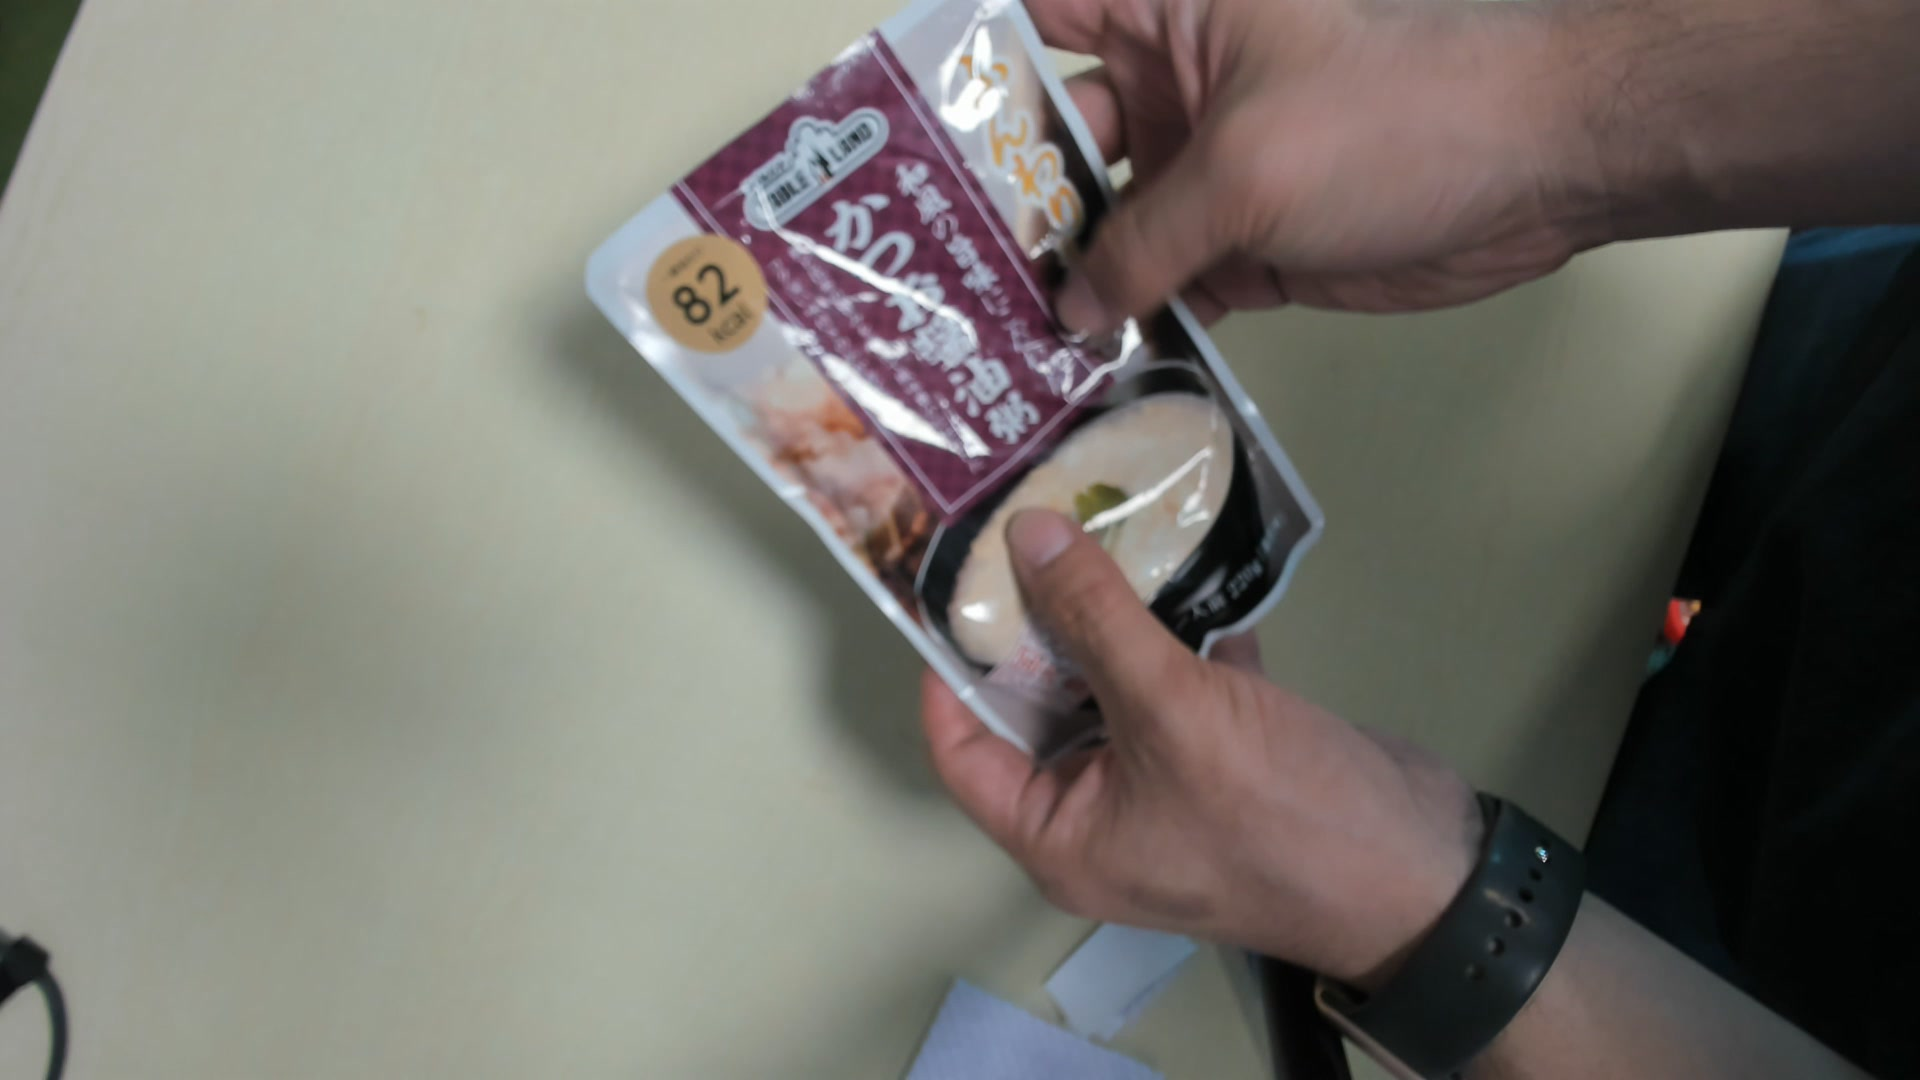InstantMeals_200_299g_NonHalal_NonHealthy: (578, 1, 1328, 770)
